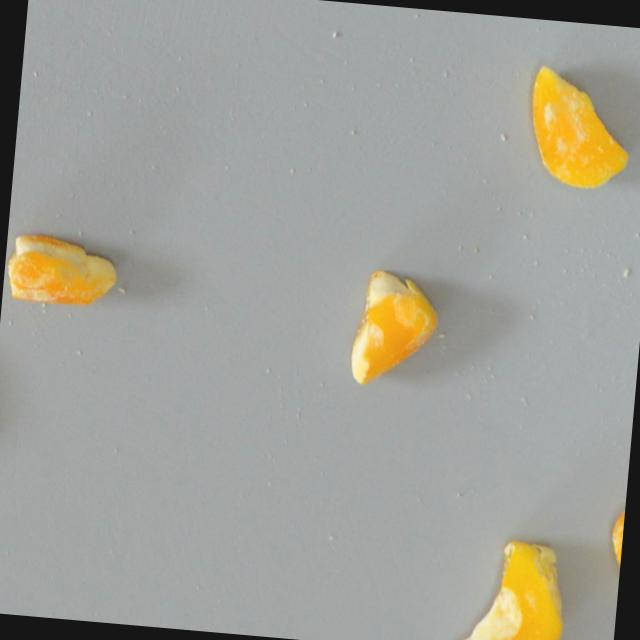dañado: (519, 58, 639, 199), (343, 257, 444, 400), (1, 226, 121, 318), (601, 484, 627, 600)
punto_negro: (445, 527, 575, 640)
